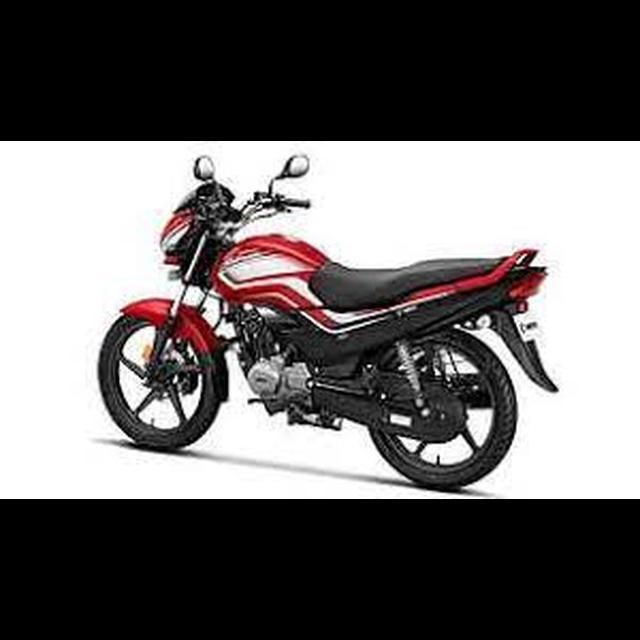motorcycle: (93, 149, 564, 493)
